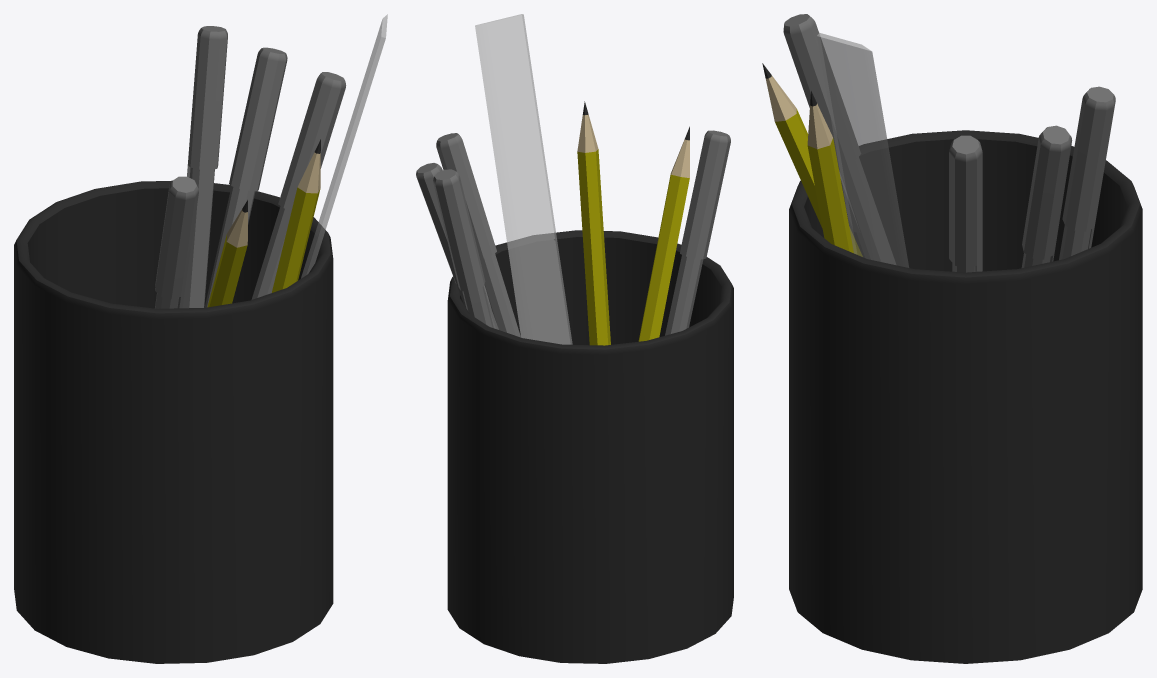
File: Stationary.fbx
The picture shows the model from 3 angles, left to right: view 1: azimuth 30°, elevation 25°; view 2: azimuth 150°, elevation 25°; view 3: azimuth 270°, elevation 25°; orthographic projection. The views are drawn at different scales.
Visible parts, largest first — view 1: pCylinder4, pCylinder13, pCylinder12, pCylinder11, pCylinder8, pCylinder10, pCube1, Pencil:pCylinder10; view 2: pCylinder4, pCube1, pCylinder8, pCylinder10, pCylinder13, pCylinder11, Pencil:pCylinder10, pCylinder12; view 3: pCylinder4, pCube1, pCylinder8, pCylinder13, pCylinder12, pCylinder11, pCylinder10, Pencil:pCylinder10.
Part boxes in pixels (x1,y1,x2,y2): pCylinder4: [14, 180, 333, 663]; pCylinder13: [182, 26, 227, 308]; pCylinder12: [204, 47, 287, 307]; pCylinder11: [251, 72, 346, 299]; pCylinder8: [155, 176, 198, 308]; pCylinder10: [272, 139, 320, 292]; pCube1: [301, 14, 387, 278]; Pencil:pCylinder10: [207, 200, 247, 307]; pCylinder4: [447, 230, 733, 663]; pCube1: [475, 14, 572, 344]; pCylinder8: [665, 130, 730, 335]; pCylinder10: [577, 101, 610, 345]; pCylinder13: [433, 169, 493, 328]; pCylinder11: [436, 133, 520, 337]; Pencil:pCylinder10: [638, 126, 689, 341]; pCylinder12: [416, 163, 498, 329]; pCylinder4: [789, 130, 1142, 663]; pCube1: [817, 33, 908, 267]; pCylinder8: [783, 14, 895, 264]; pCylinder13: [1059, 86, 1115, 259]; pCylinder12: [1021, 125, 1072, 267]; pCylinder11: [949, 135, 982, 272]; pCylinder10: [807, 91, 853, 253]; Pencil:pCylinder10: [762, 63, 862, 256].
Size of the model in its own units: 2.24 by 3.95 by 2.15.
